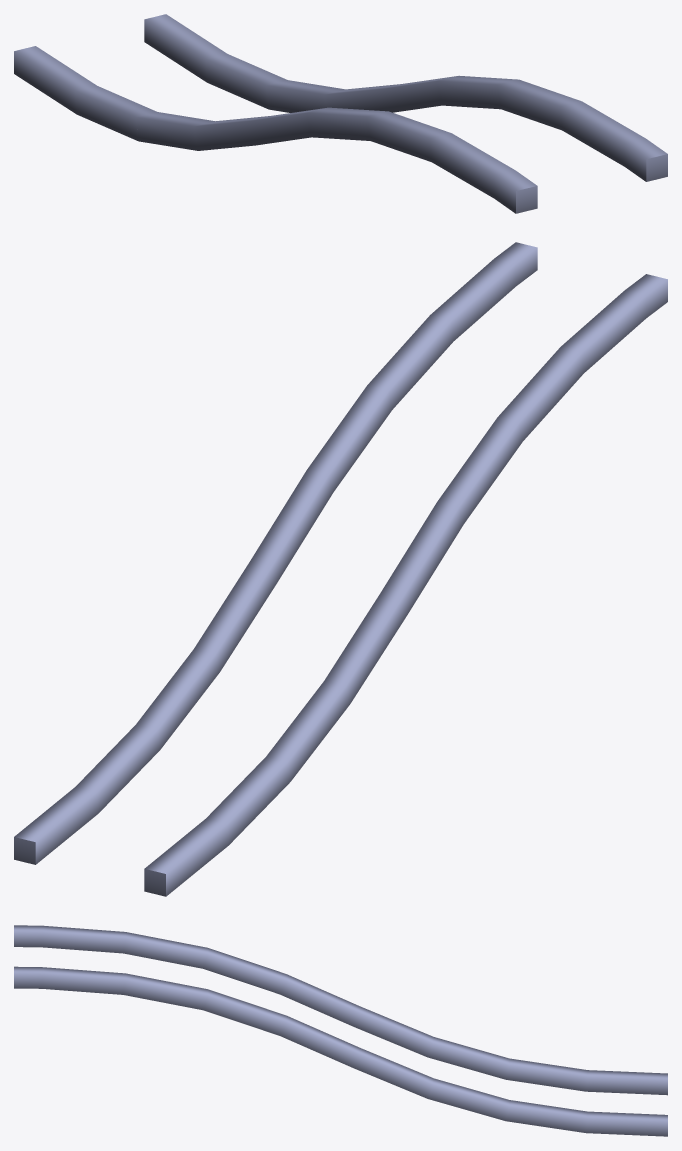
The model's file is railroad-rail-straight-hill-complete.glb.
The picture shows the model from 3 angles, top to bottom: view 1: azimuth 30°, elevation 25°; view 2: azimuth 150°, elevation 25°; view 3: azimuth 270°, elevation 25°; orthographic projection. The views are drawn at different scales.
Visible parts, largest first — view 1: railroad-rail-straight-hill-complete; view 2: railroad-rail-straight-hill-complete; view 3: railroad-rail-straight-hill-complete.
Part boxes in pixels (x1=…): railroad-rail-straight-hill-complete: x1=14, y1=14, x2=667, y2=213; railroad-rail-straight-hill-complete: x1=14, y1=242, x2=667, y2=896; railroad-rail-straight-hill-complete: x1=14, y1=925, x2=667, y2=1136.
Size of the model in its own units: 0.7 by 1.1 by 4.
